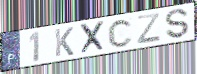1: (29, 30, 40, 63)
C: (107, 18, 134, 49)
K: (54, 26, 75, 58)
S: (164, 8, 190, 40)
X: (78, 20, 108, 56)
Z: (136, 12, 162, 46)
